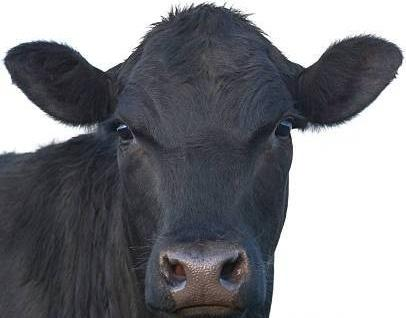muzzles: (145, 236, 267, 312)
